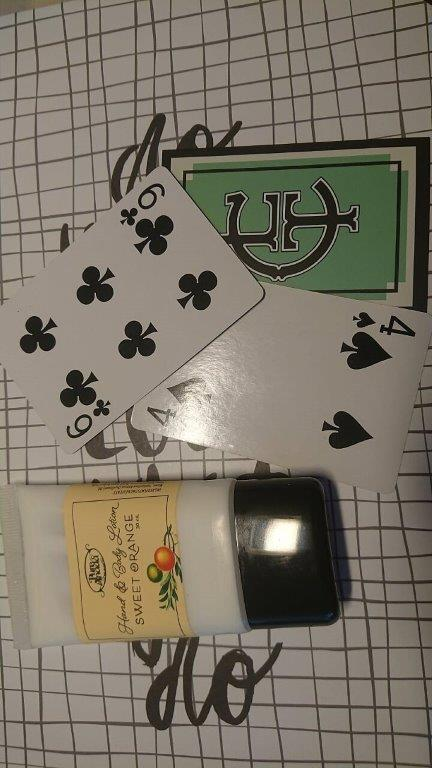6C: (118, 180, 167, 231)
